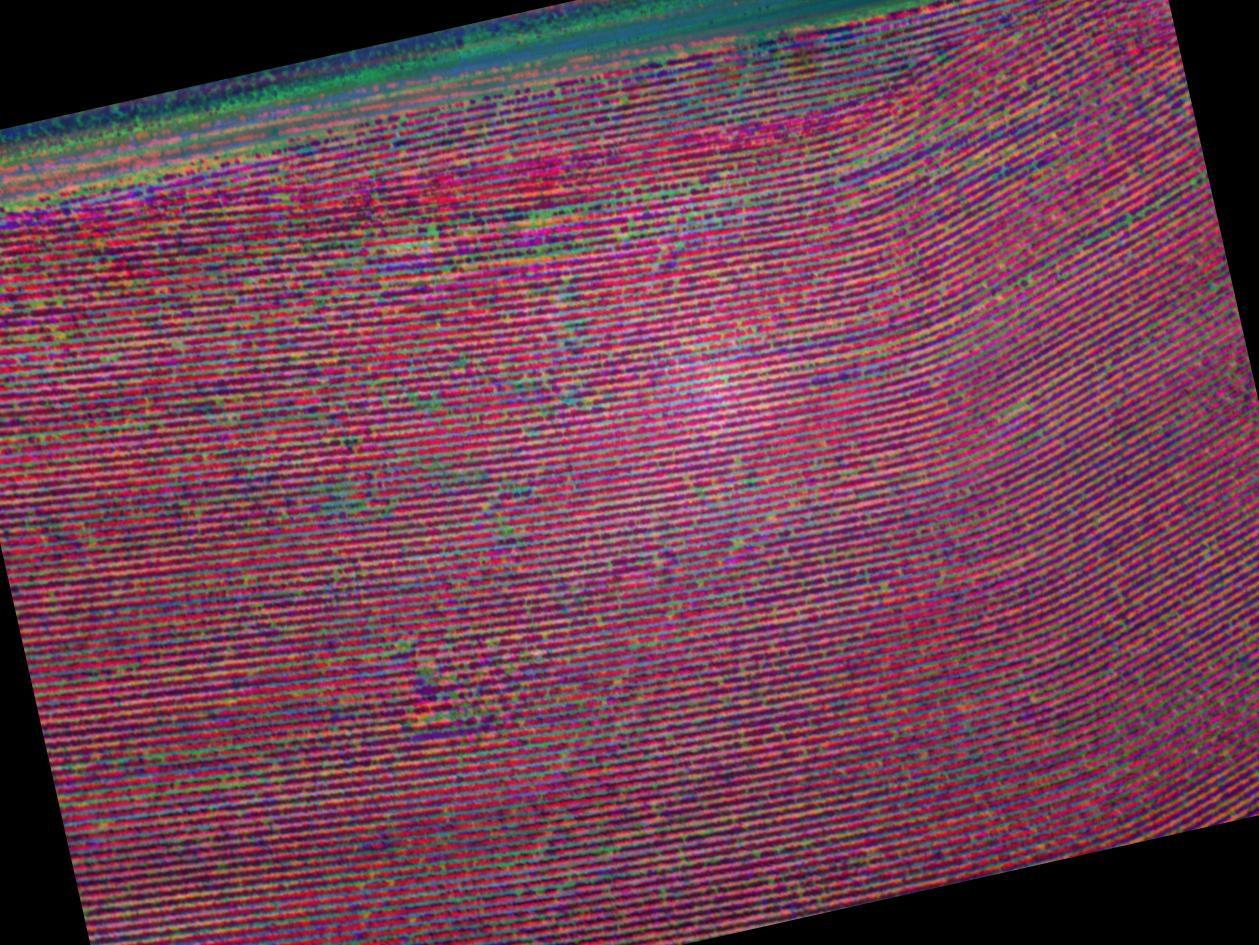dc: (513, 172, 639, 244), (301, 450, 396, 543), (381, 194, 465, 269)
